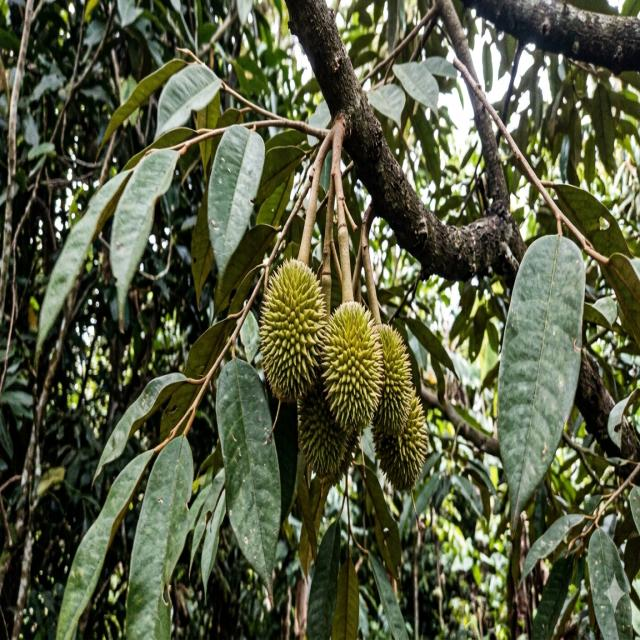immature: (260, 256, 325, 401), (318, 298, 382, 434), (297, 372, 351, 478), (377, 394, 431, 492), (369, 324, 415, 436)
